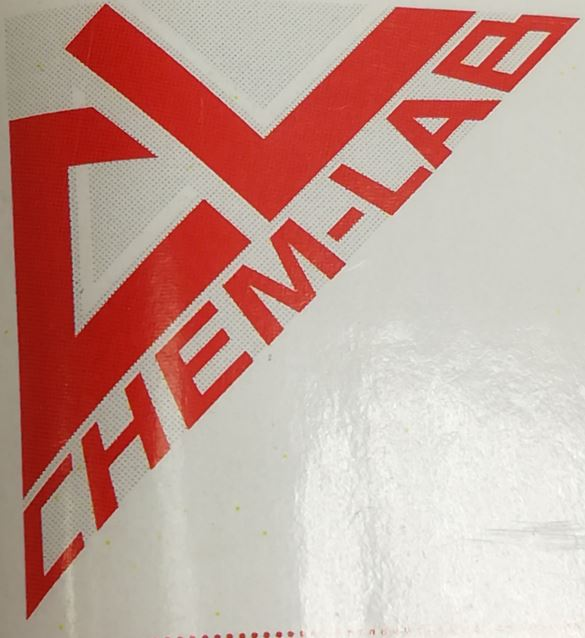ChemLab: (6, 4, 581, 626)
